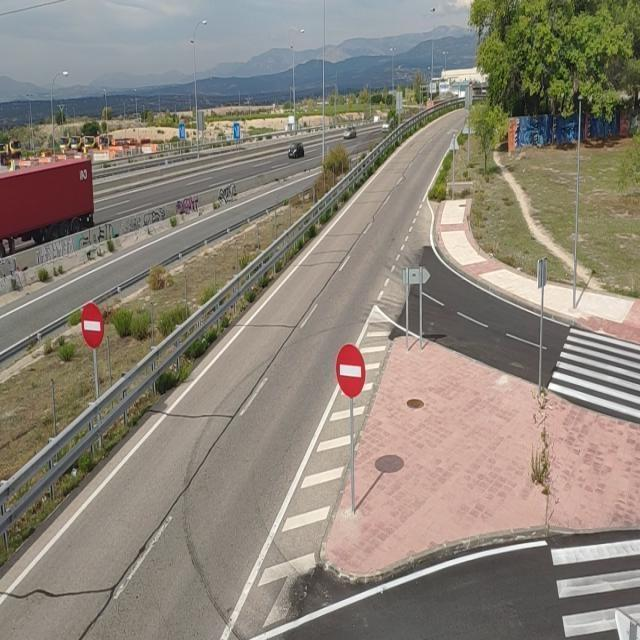Car: (286, 138, 309, 163), (336, 121, 362, 141), (379, 111, 395, 132)
Truck: (0, 151, 116, 255)
